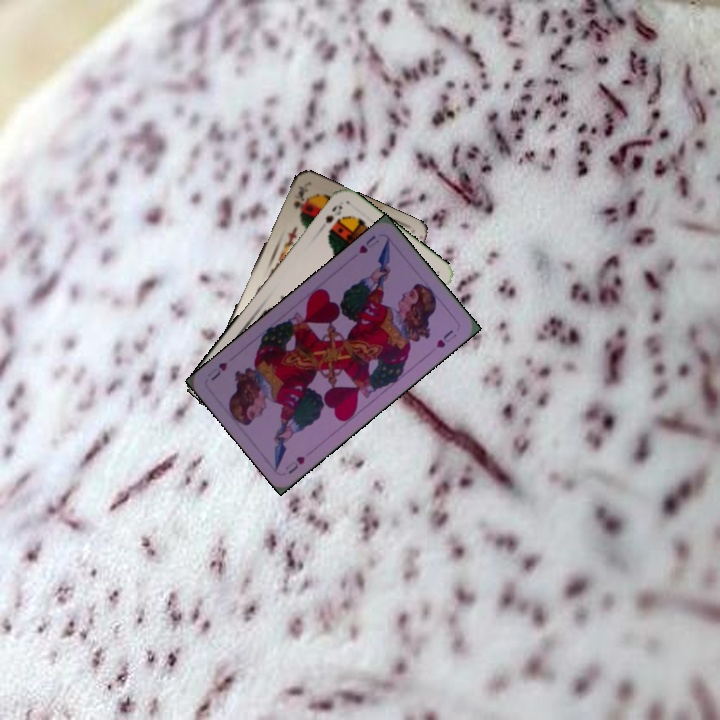HU: (281, 452, 308, 477), (355, 231, 381, 256)
SK: (289, 181, 311, 212)
SO: (321, 200, 345, 226)
